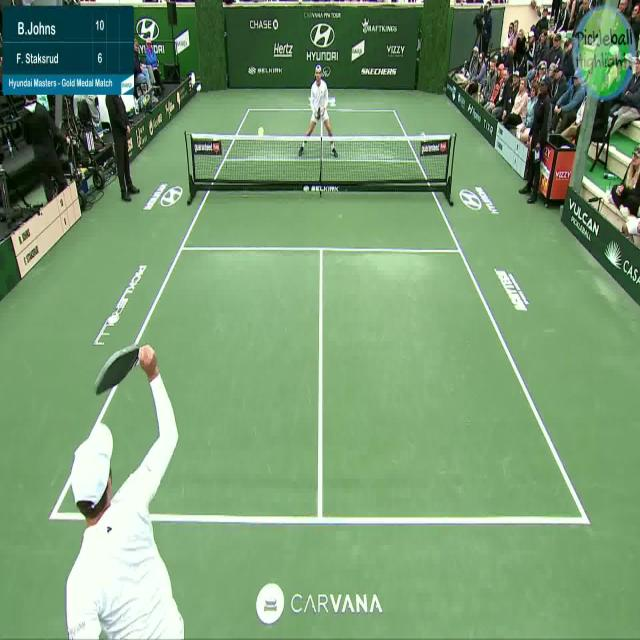Court: (51, 109, 587, 523)
ball: (253, 124, 266, 141)
